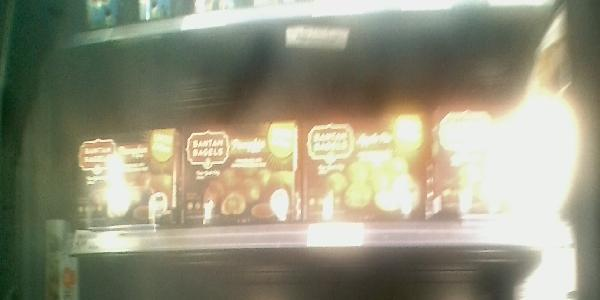icecream: (299, 110, 432, 231), (431, 94, 551, 220), (181, 117, 302, 229), (67, 121, 180, 231)
